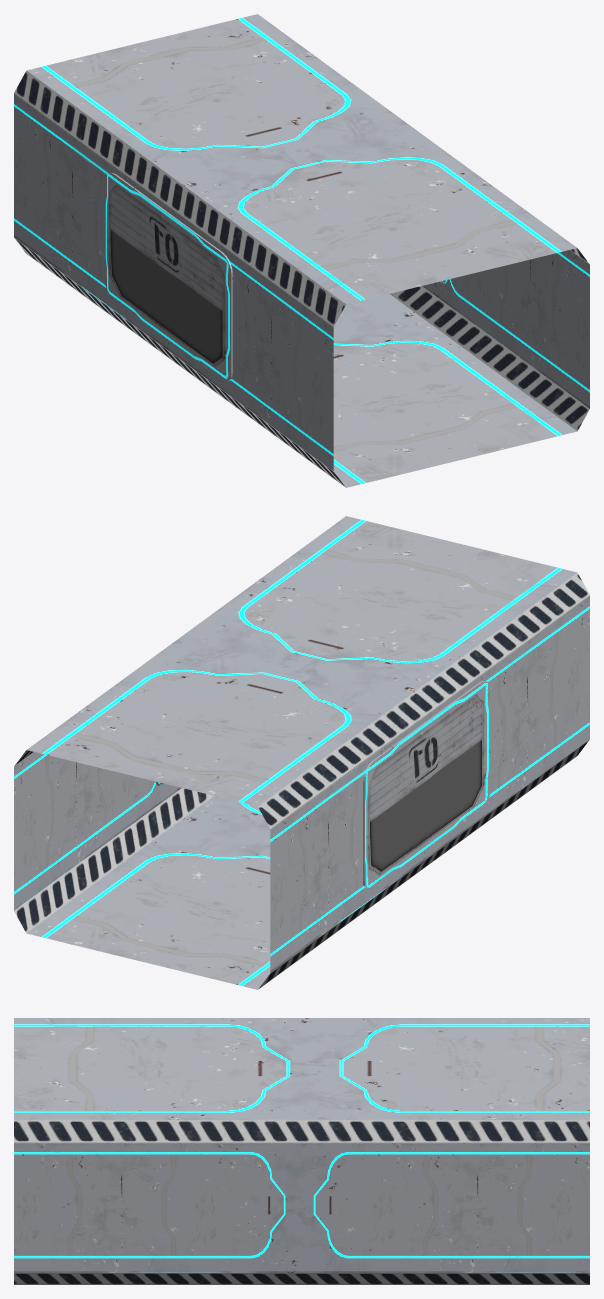
File: trim with textures.fbx
3 renders of one model, top to bottom at view 1: azimuth 30°, elevation 25°; view 2: azimuth 150°, elevation 25°; view 3: azimuth 270°, elevation 25°, orthographic. The views are drawn at different scales.
Parts seen in each view (by area): view 1: window.001; view 2: window.001; view 3: window.001.
Boxes of the visible parts, left/top/right/bottom form: window.001: left=14, top=14, right=589, bottom=487; window.001: left=14, top=516, right=589, bottom=989; window.001: left=14, top=1018, right=589, bottom=1284.
Size of the model in its own units: 334 by 227 by 717.
